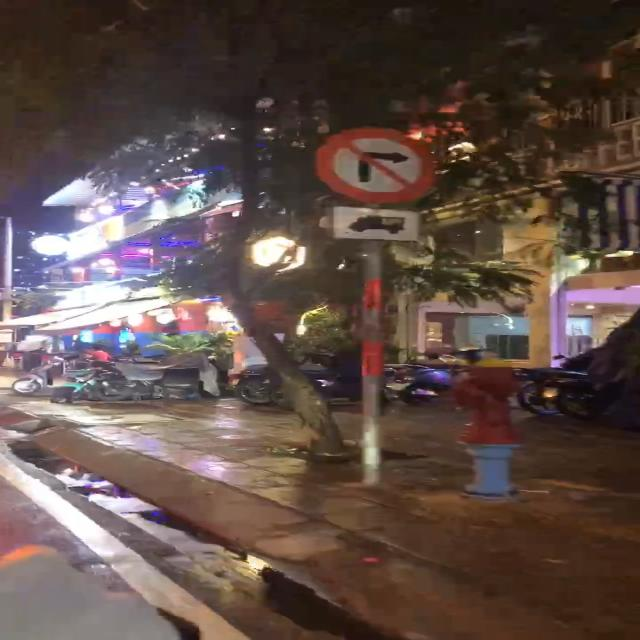Bien bao cam re phai: (308, 120, 452, 208)
